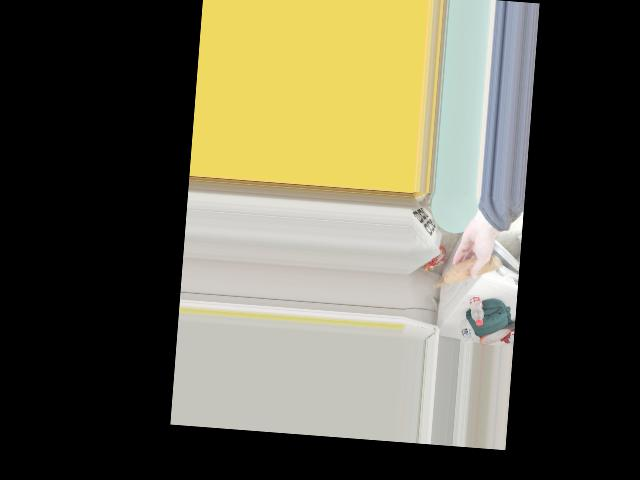sweet_potato: (449, 252, 497, 288)
